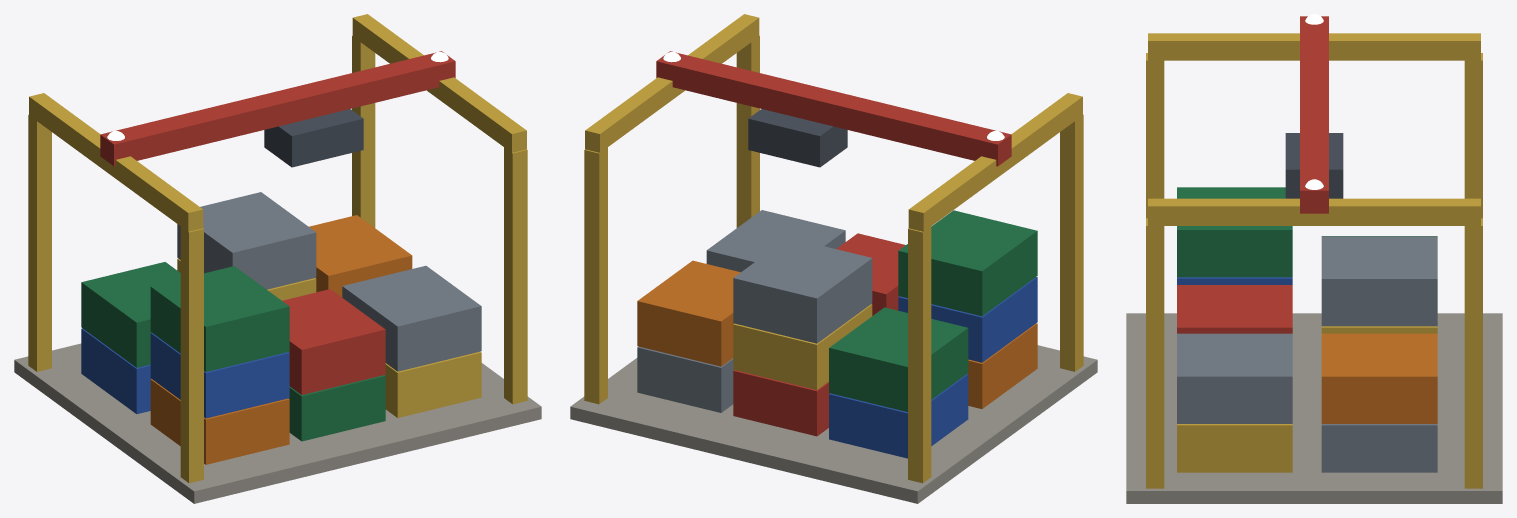
The model's file is containers-port.glb.
3 views of the same model, side by side, from view 1: azimuth 30°, elevation 25°; view 2: azimuth 150°, elevation 25°; view 3: azimuth 270°, elevation 25° (orthographic). The views are drawn at different scales.
Visible parts, largest first — view 1: cw_paint; view 2: cw_paint; view 3: cw_paint.
Part boxes in pixels (x1,y1,x2,y2): cw_paint: (14,14,541,503); cw_paint: (570,14,1097,503); cw_paint: (1126,16,1502,503).
Bounding box in the file's own units: 5.8 × 4.84 × 5.2.
